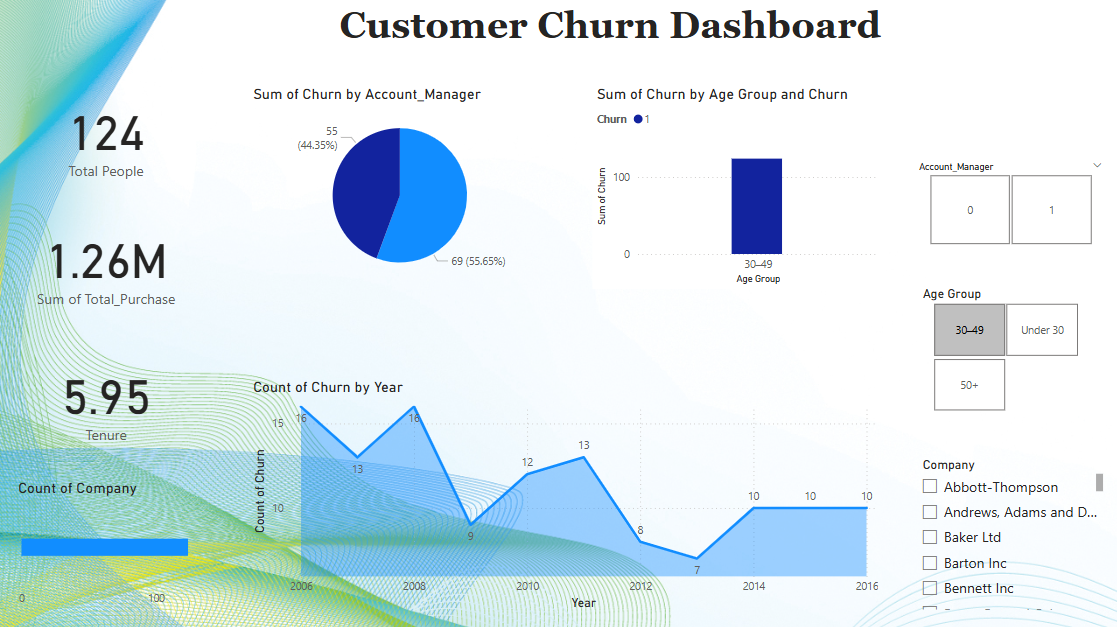

The dashboard page shown, as its layout file describes it:
{"tool":"powerbi","page":{"name":"Page 1","canvas":[1280,720],"ordinal":0},"visuals":[{"type":"card","fields":{"Values":["Divide(Count(customer_churn.Names), ScopedEval(Count(customer_churn.Names), []))"]},"box":[15.7,98.6,211.4,118.6],"z":0},{"type":"card","fields":{"Values":["Sum(customer_churn.Total_Purchase)"]},"box":[15.7,244.3,211.4,118.6],"z":1000},{"type":"card","fields":{"Values":["Avg(customer_churn.Years)"]},"box":[15.7,400,211.4,118.6],"z":2000},{"type":"clusteredColumnChart","fields":{"Category":["customer_churn.Age Group"],"Y":["Sum(customer_churn.Churn)"],"Series":["customer_churn.Churn"]},"box":[677.1,98.6,331.4,232.9],"z":3000},{"type":"pieChart","fields":{"Y":["Sum(customer_churn.Churn)"],"Category":["customer_churn.Account_Manager"]},"box":[284.3,98.6,345.7,232.9],"z":4000},{"type":"lineChart","fields":{"Category":["customer_churn.Onboard_date.Variation.Date Hierarchy.Year","customer_churn.Onboard_date.Variation.Date Hierarchy.Quarter","customer_churn.Onboard_date.Variation.Date Hierarchy.Month","customer_churn.Onboard_date.Variation.Date Hierarchy.Day"],"Y":["CountNonNull(customer_churn.Churn)"]},"box":[284.3,432.9,724.3,270],"z":5000},{"type":"barChart","fields":{"Y":["CountNonNull(customer_churn.Company)"]},"box":[15.7,548.6,254.3,154.3],"z":6000},{"type":"slicer","fields":{"Values":["customer_churn.Account_Manager"]},"box":[1037.1,180,234.3,107.1],"z":7000},{"type":"slicer","fields":{"Values":["customer_churn.Age Group"]},"box":[1041.4,322.9,214.3,154.3],"z":8000},{"type":"slicer","fields":{"Values":["customer_churn.Company"]},"box":[1041.4,518.6,224.3,184.3],"z":9000},{"type":"textbox","box":[382.9,0,641.4,67.1],"z":10000}]}

Visuals, with their boxes in screenshot pixels (x1, y1, x2, y2), scaled from the page's 1280x720 canvas onto the 1117x627 screenshot:
card - Divide(Count(customer_churn.Names), ScopedEval(Count(customer_churn.Names), [])): (left=14, top=86, right=198, bottom=189)
card - Sum(customer_churn.Total_Purchase): (left=14, top=213, right=198, bottom=316)
card - Avg(customer_churn.Years): (left=14, top=348, right=198, bottom=452)
clusteredColumnChart - customer_churn.Age Group x Sum(customer_churn.Churn): (left=591, top=86, right=880, bottom=289)
pieChart - Sum(customer_churn.Churn) x customer_churn.Account_Manager: (left=248, top=86, right=550, bottom=289)
lineChart - customer_churn.Onboard_date.Variation.Date Hierarchy.Year x customer_churn.Onboard_date.Variation.Date Hierarchy.Quarter: (left=248, top=377, right=880, bottom=612)
barChart - CountNonNull(customer_churn.Company): (left=14, top=478, right=236, bottom=612)
slicer - customer_churn.Account_Manager: (left=905, top=157, right=1109, bottom=250)
slicer - customer_churn.Age Group: (left=909, top=281, right=1096, bottom=416)
slicer - customer_churn.Company: (left=909, top=452, right=1105, bottom=612)
textbox: (left=334, top=0, right=894, bottom=58)
